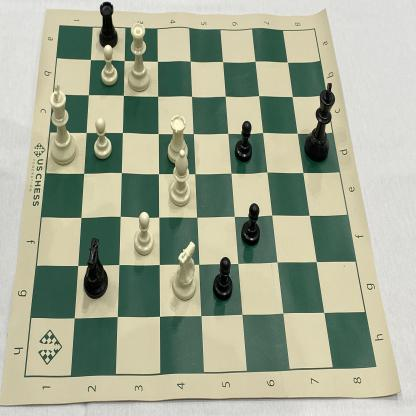bishop: (168, 148, 194, 208)
king: (302, 78, 340, 166), (46, 80, 78, 168)
knight: (82, 235, 112, 304), (170, 238, 198, 304)
pawn: (130, 207, 156, 259), (239, 198, 263, 252), (90, 112, 115, 162), (211, 252, 235, 303), (98, 42, 122, 88), (233, 120, 254, 168)
queen: (127, 20, 154, 96)
rook: (165, 112, 191, 166), (95, 0, 120, 51)
